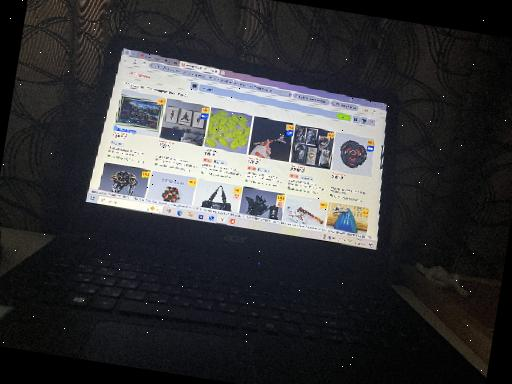aliexpress: (83, 60, 393, 237)
